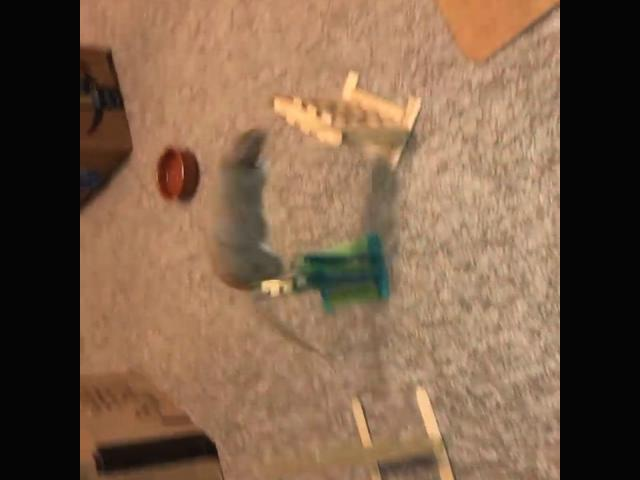Tikus: (204, 126, 318, 350)
